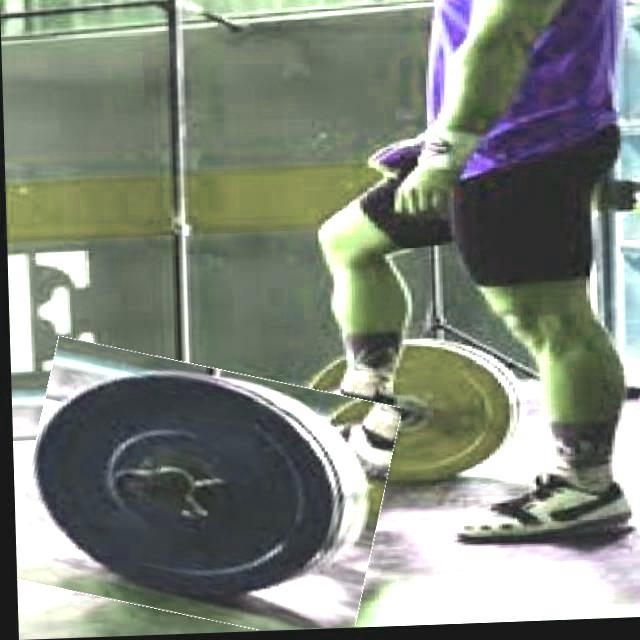barbell: (8, 347, 392, 640)
